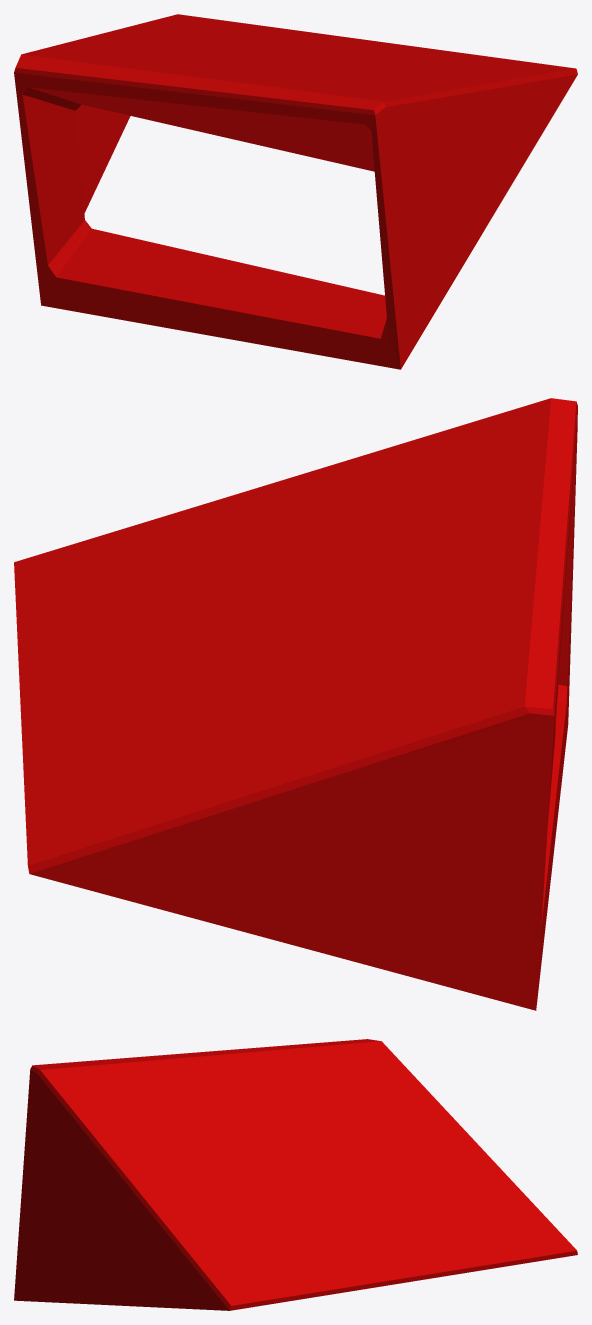
File: ferrariRightCase.glb
The picture shows the model from 3 angles, top to bottom: view 1: azimuth 30°, elevation 25°; view 2: azimuth 150°, elevation 25°; view 3: azimuth 270°, elevation 25°; orthographic projection. The views are drawn at different scales.
Parts seen in each view (by area): view 1: PopupRightCase; view 2: PopupRightCase; view 3: PopupRightCase.
Boxes of the visible parts, box(x1,y1,x2,y2) form: PopupRightCase: box(14, 14, 577, 369); PopupRightCase: box(14, 398, 577, 1010); PopupRightCase: box(14, 1039, 577, 1310).
Size of the model in its own units: 4.01 by 2.31 by 4.52.
